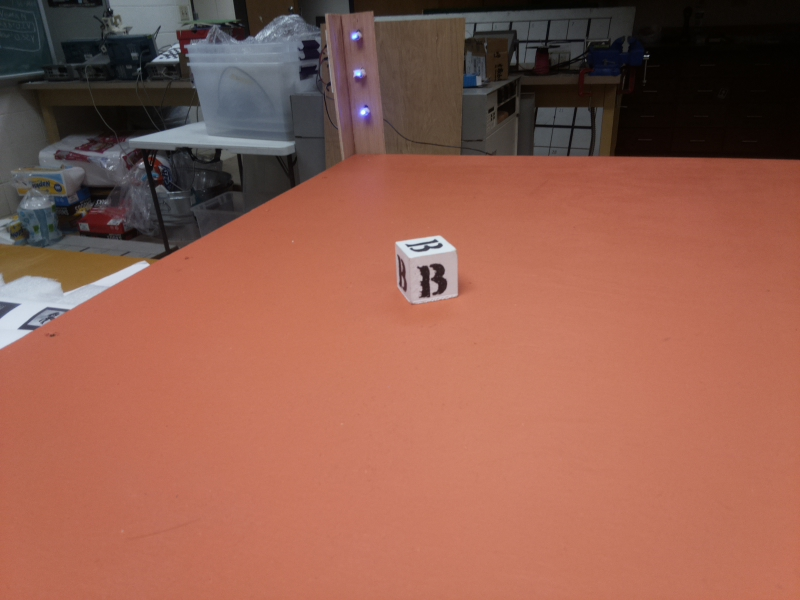blockB: (394, 233, 459, 307)
corner: (318, 8, 388, 165)
